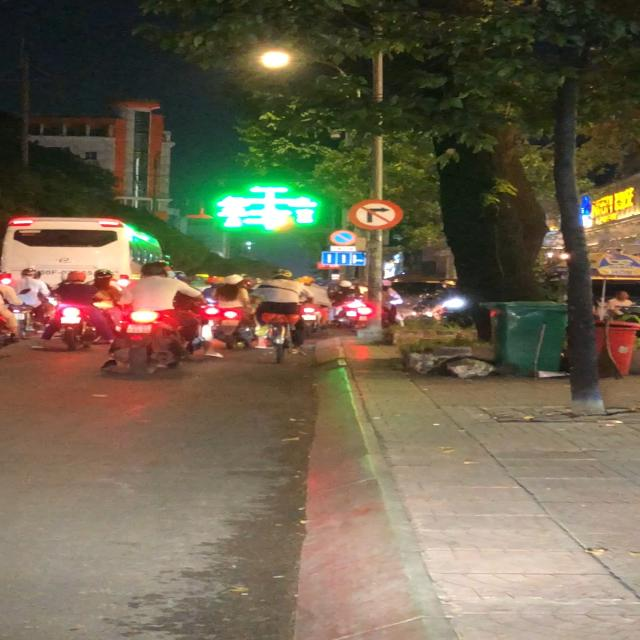Bien bao cam do xe: (329, 230, 358, 246)
Bien bao cam re phai: (348, 198, 406, 232)
